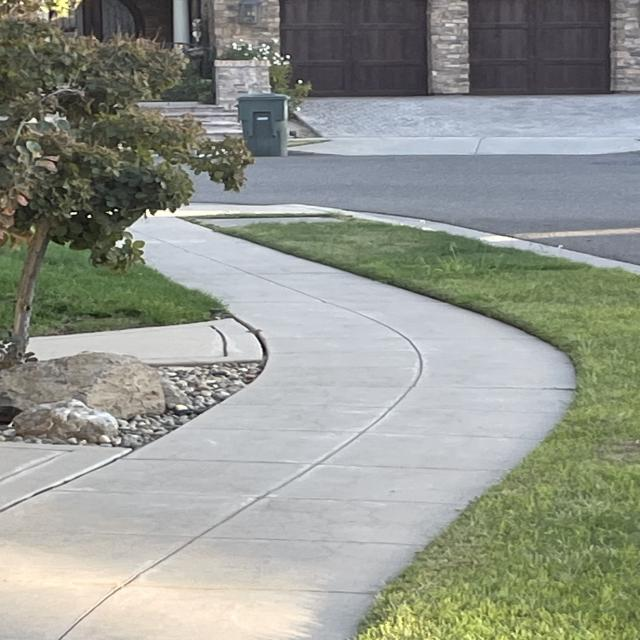walkway: (7, 529, 380, 610), (91, 470, 436, 550), (199, 419, 477, 504), (269, 354, 560, 418), (233, 301, 435, 354), (180, 258, 313, 298), (133, 227, 225, 270)
walkway-edge: (434, 424, 568, 563), (351, 529, 450, 637), (534, 324, 590, 464), (201, 357, 291, 417)
